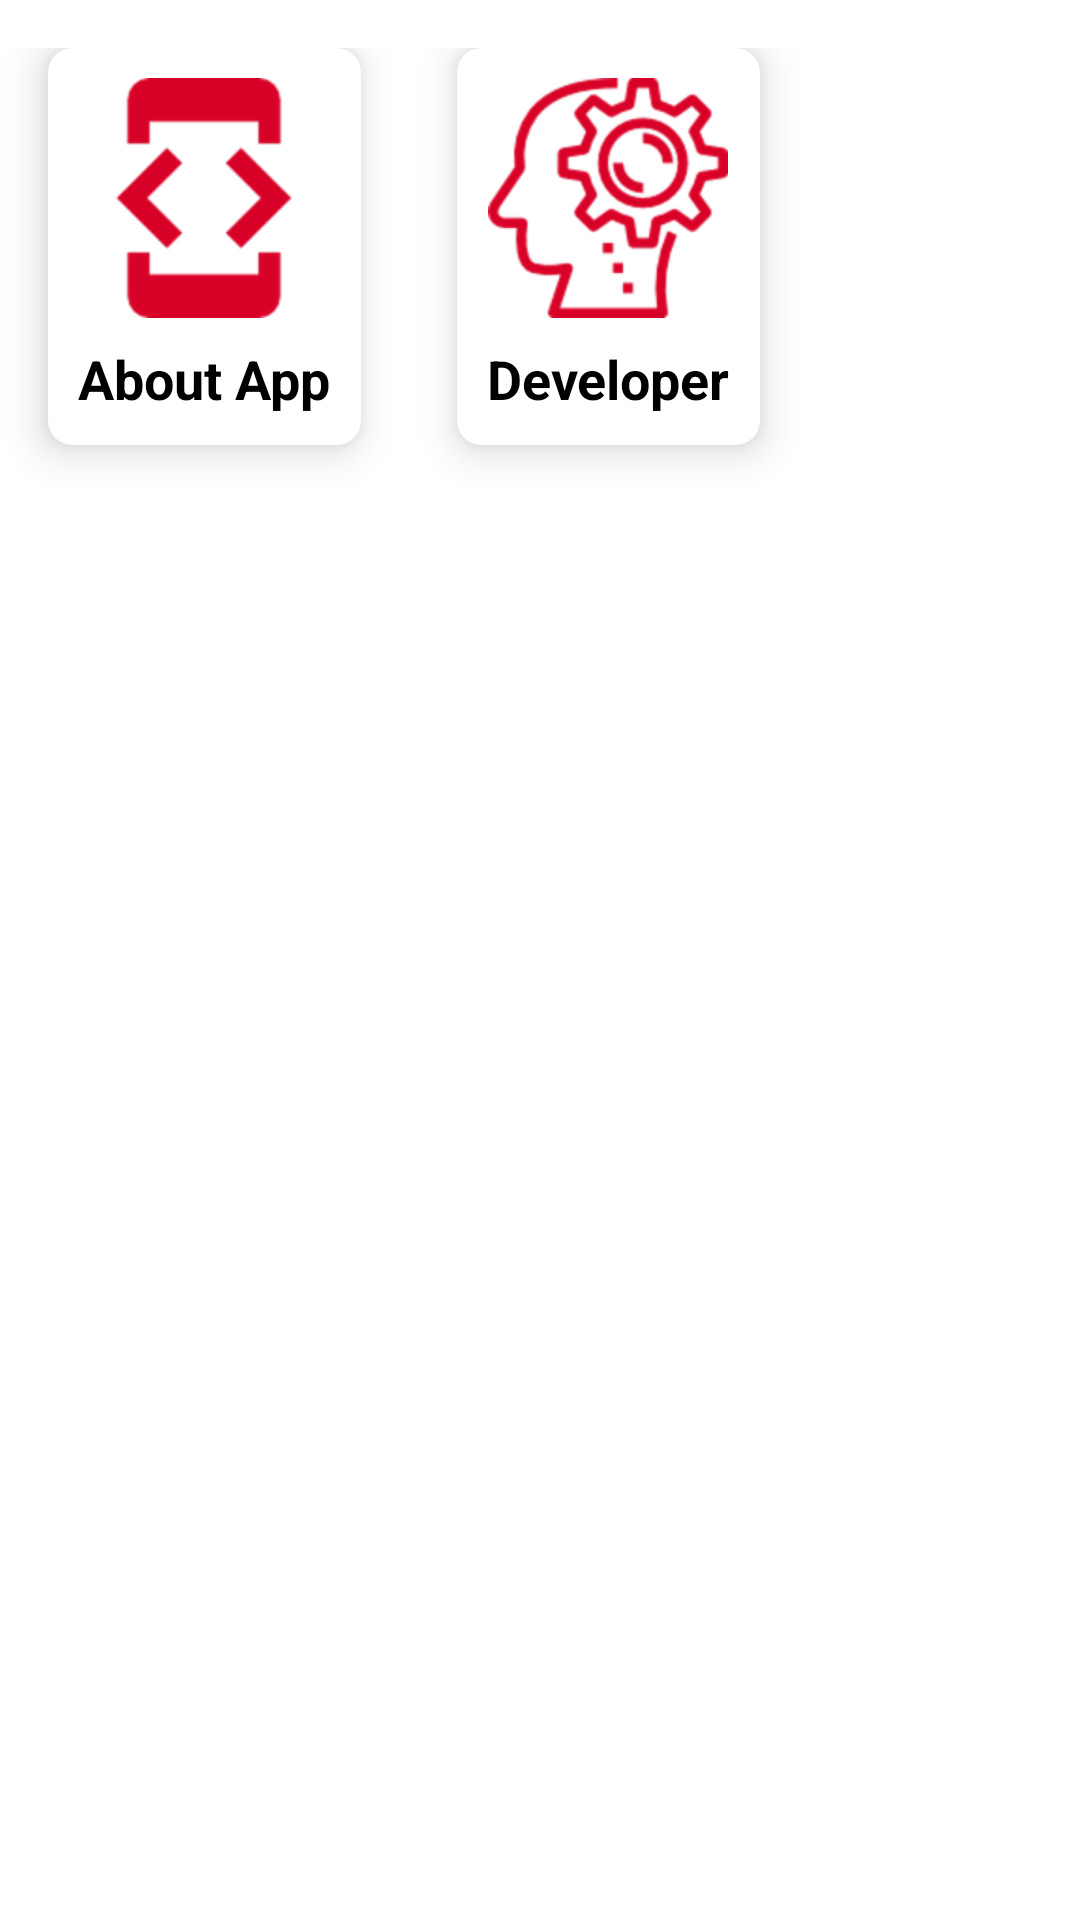

Icon bounding boxes for this 1080 x 1920 phone screenshot, format (x1, y1, x2, y2):
develop: (116, 78, 292, 318)
